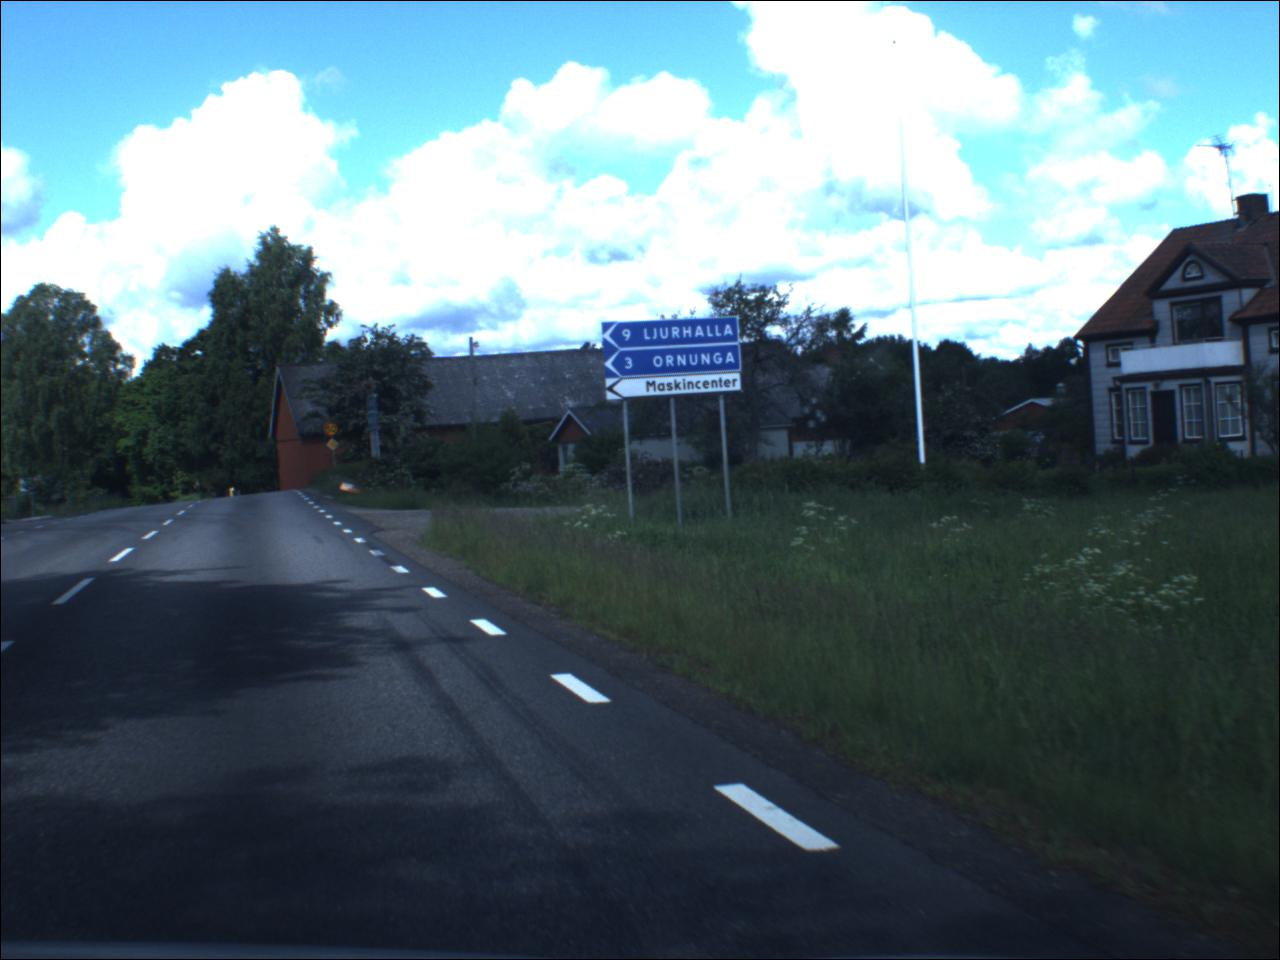50_SIGN: (324, 424, 341, 439)
PRIORITY_ROAD: (328, 440, 342, 452)
